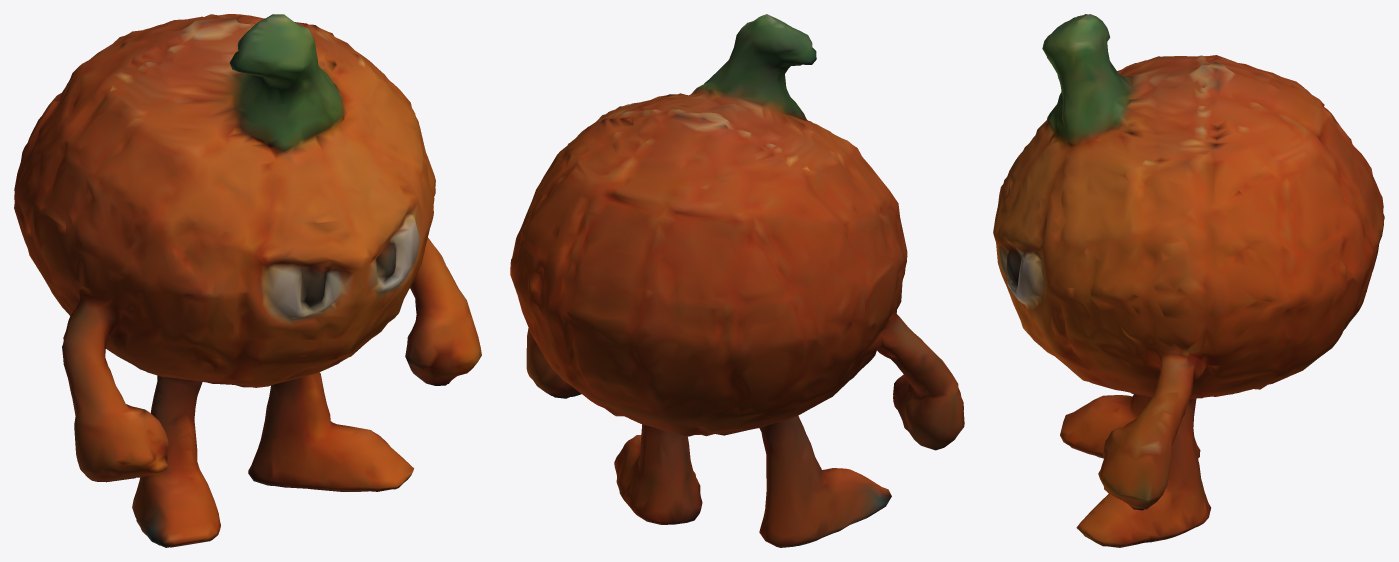
File: pumpkin.glb
3 renders of one model, left to right at view 1: azimuth 30°, elevation 25°; view 2: azimuth 150°, elevation 25°; view 3: azimuth 270°, elevation 25°, orthographic. The views are drawn at different scales.
Visible parts, largest first — view 1: pumpkin; view 2: pumpkin; view 3: pumpkin.
Boxes of the visible parts, <box> form: pumpkin: <box>14,14,481,547</box>; pumpkin: <box>510,14,964,547</box>; pumpkin: <box>993,14,1384,547</box>.
Size of the model in its own units: 1.05 by 1.2 by 0.897.
